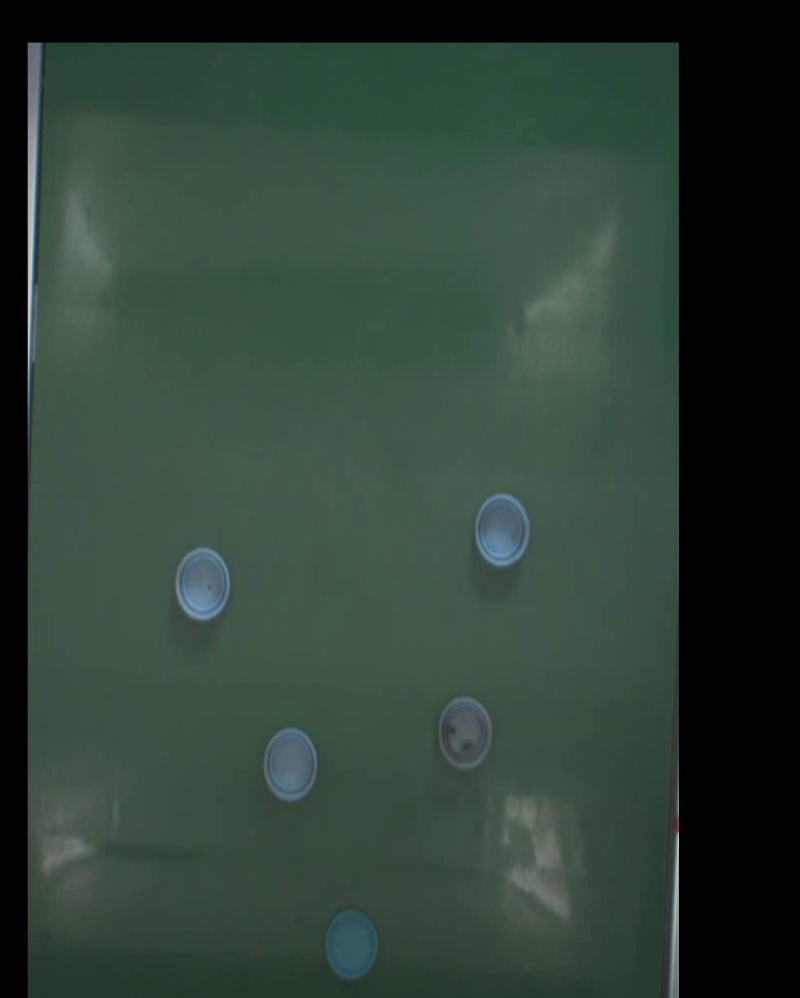Light Blue: (176, 547, 231, 622), (263, 727, 318, 802), (475, 493, 530, 568), (438, 697, 492, 771), (326, 909, 381, 980)
